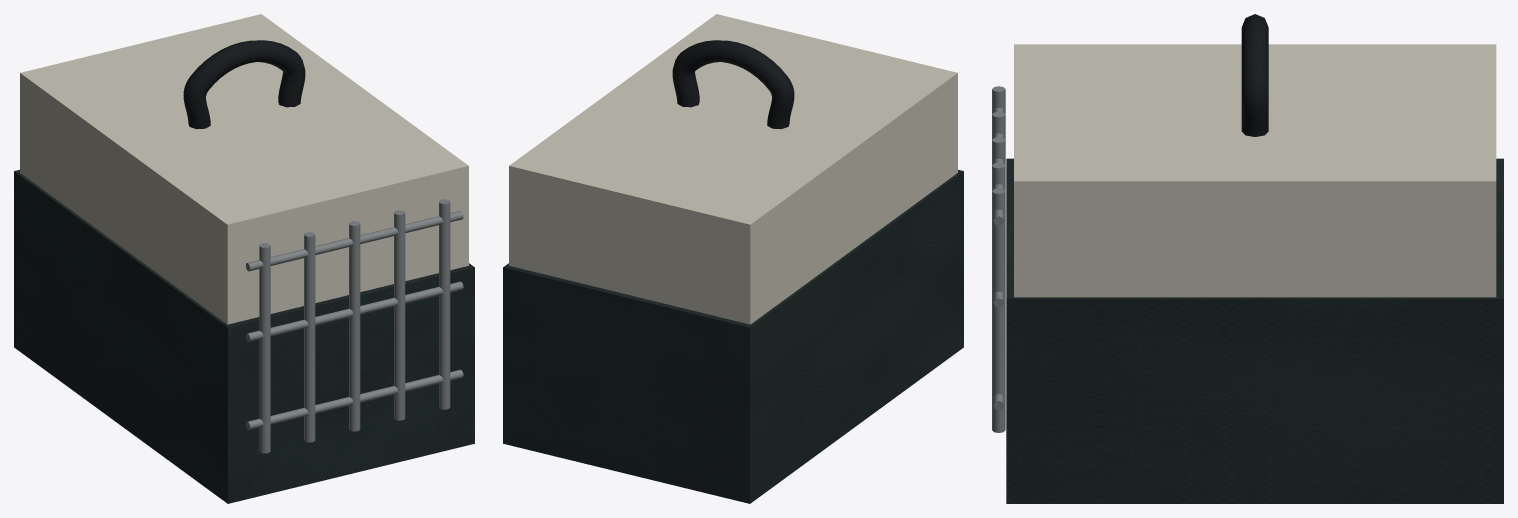
Rendered from carrier.glb.
The picture shows the model from 3 angles, left to right: view 1: azimuth 30°, elevation 25°; view 2: azimuth 150°, elevation 25°; view 3: azimuth 270°, elevation 25°; orthographic projection. The views are drawn at different scales.
Parts seen in each view (by area): view 1: Carrier top, Carrier lower, Carrier handle, Carrier bars.004, Carrier bars.003, Carrier bars.002, Carrier bars, Carrier bars.001, Carrier grid, Carrier grid.001, Carrier grid.002; view 2: Carrier top, Carrier lower, Carrier handle; view 3: Carrier top, Carrier lower, Carrier handle, Carrier bars.004.
Part boxes in pixels (x1=…): Carrier top: x1=20, y1=14, x2=468, y2=324; Carrier lower: x1=14, y1=169, x2=474, y2=503; Carrier handle: x1=183, y1=40, x2=305, y2=129; Carrier bars.004: x1=439, y1=199, x2=450, y2=409; Carrier bars.003: x1=394, y1=210, x2=405, y2=420; Carrier bars.002: x1=349, y1=221, x2=360, y2=431; Carrier bars: x1=259, y1=243, x2=270, y2=453; Carrier bars.001: x1=304, y1=232, x2=315, y2=442; Carrier grid: x1=245, y1=369, x2=463, y2=429; Carrier grid.001: x1=246, y1=281, x2=463, y2=341; Carrier grid.002: x1=245, y1=211, x2=463, y2=271; Carrier top: x1=509, y1=14, x2=957, y2=324; Carrier lower: x1=503, y1=169, x2=963, y2=503; Carrier handle: x1=672, y1=40, x2=794, y2=129; Carrier top: x1=1014, y1=44, x2=1496, y2=297; Carrier lower: x1=1006, y1=158, x2=1503, y2=503; Carrier handle: x1=1241, y1=14, x2=1268, y2=136; Carrier bars.004: x1=992, y1=188, x2=1005, y2=432.
Bounding box in the file's own units: 0.44 × 0.6011 × 0.679.
4 materials, 1 textured.
